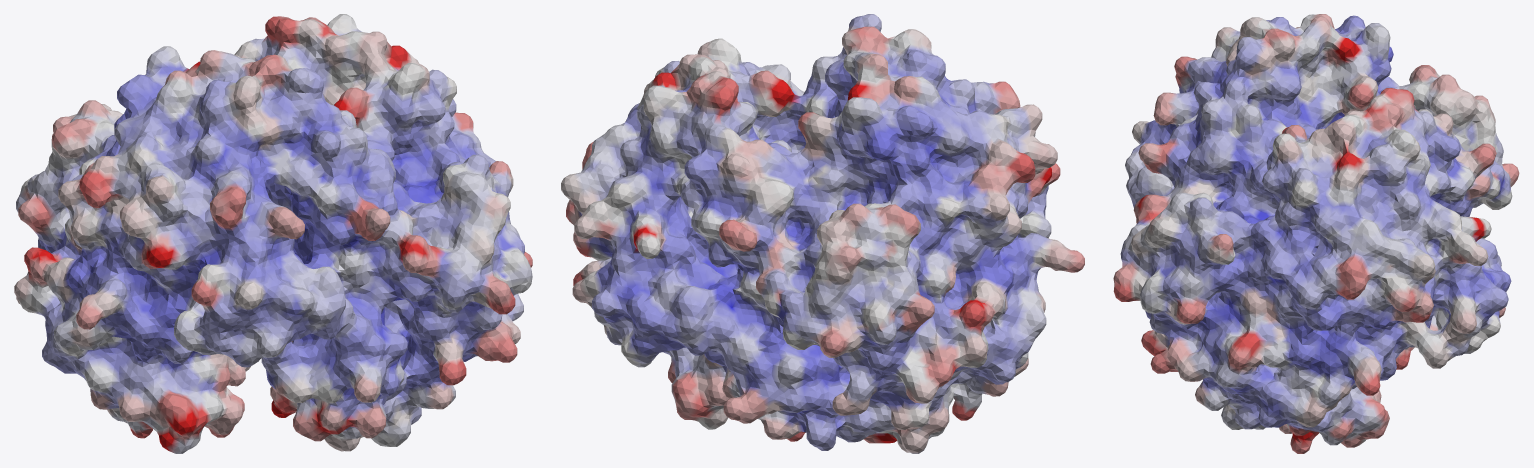
The model's file is 4hhb__surface__b-factor.glb.
3 renders of one model, left to right at view 1: azimuth 30°, elevation 25°; view 2: azimuth 150°, elevation 25°; view 3: azimuth 270°, elevation 25°, orthographic. The views are drawn at different scales.
Parts seen in each view (by area): view 1: Renderer Node; view 2: Renderer Node; view 3: Renderer Node.
Part boxes in pixels (x1,y1,x2,y2): Renderer Node: (14,14,532,453); Renderer Node: (561,14,1084,453); Renderer Node: (1113,14,1519,453).
Bounding box in the file's own units: 70.09 × 60.28 × 60.37.
